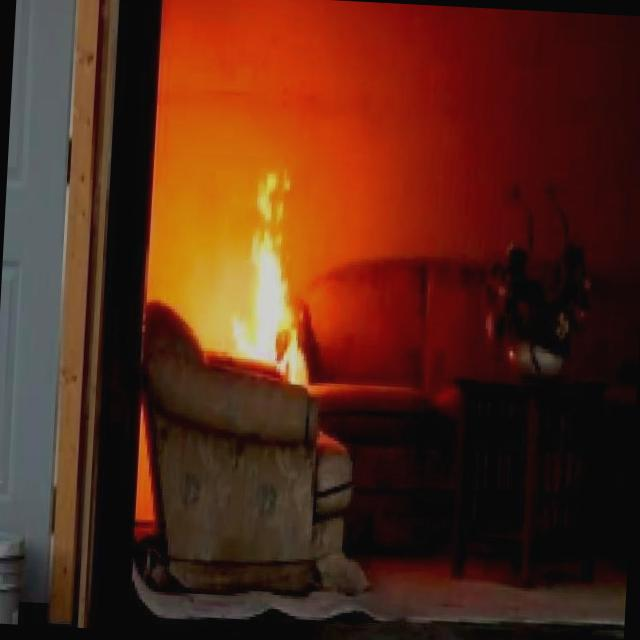fire: (227, 153, 326, 376)
